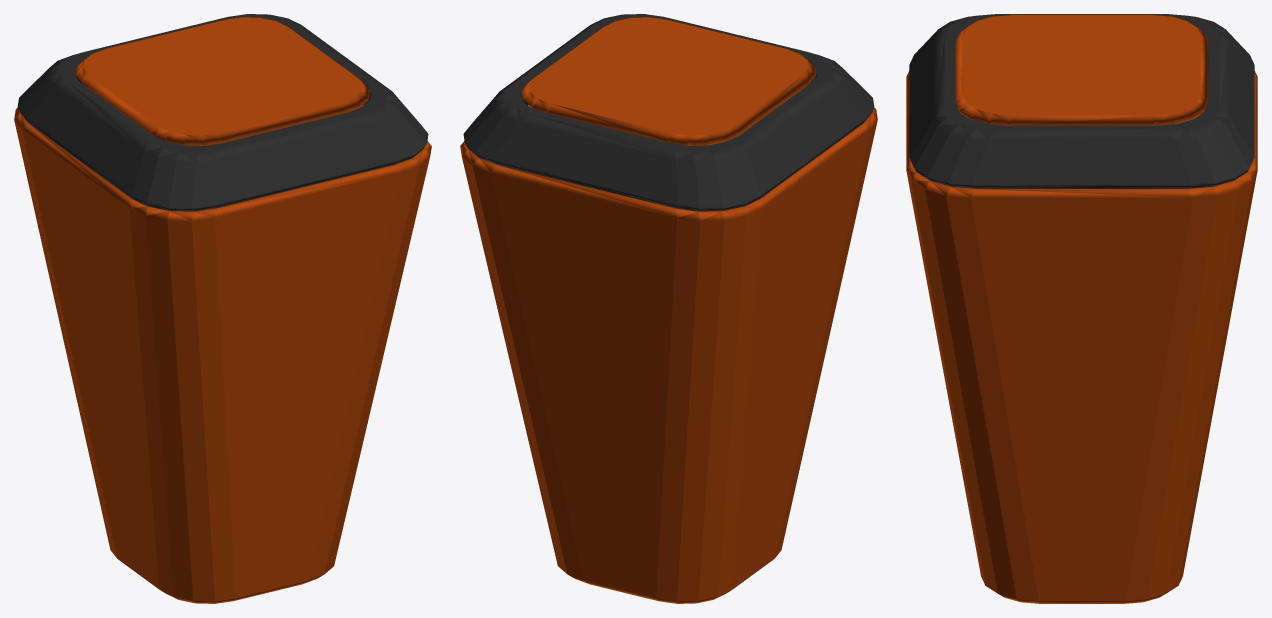
The model's file is tempatSampah.obj.
3 views of the same model, side by side, from view 1: azimuth 30°, elevation 25°; view 2: azimuth 150°, elevation 25°; view 3: azimuth 270°, elevation 25° (orthographic). The views are drawn at different scales.
Parts seen in each view (by area): view 1: Trash_bin_Cube.035; view 2: Trash_bin_Cube.035; view 3: Trash_bin_Cube.035.
Part boxes in pixels (bbox=[...]): Trash_bin_Cube.035: bbox=[14, 14, 431, 603]; Trash_bin_Cube.035: bbox=[460, 14, 877, 603]; Trash_bin_Cube.035: bbox=[906, 14, 1257, 603].
Size of the model in its own units: 0.5597 by 0.8788 by 0.5597.
